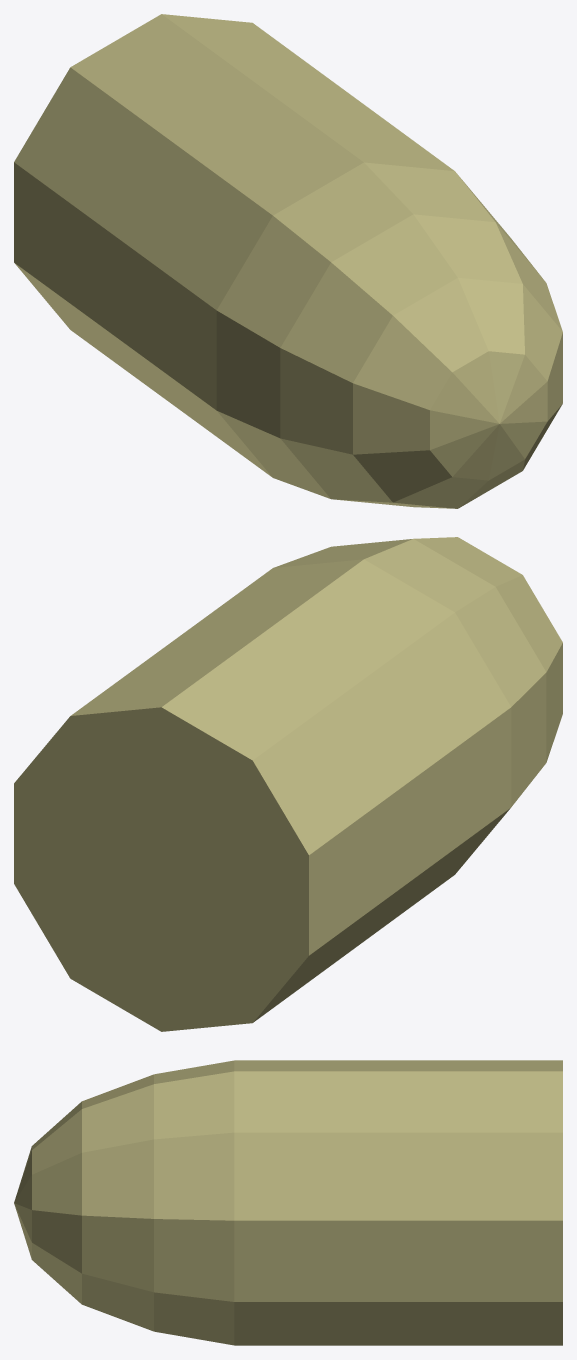
Rendered from bullet.fbx.
The picture shows the model from 3 angles, top to bottom: view 1: azimuth 30°, elevation 25°; view 2: azimuth 150°, elevation 25°; view 3: azimuth 270°, elevation 25°; orthographic projection. The views are drawn at different scales.
Parts seen in each view (by area): view 1: 球; view 2: 球; view 3: 球.
Boxes of the visible parts, <box> form: 球: <box>14,14,562,508</box>; 球: <box>14,537,562,1031</box>; 球: <box>14,1060,562,1345</box>.
Bounding box in the file's own units: 0.0466 × 0.049 × 0.0926.
